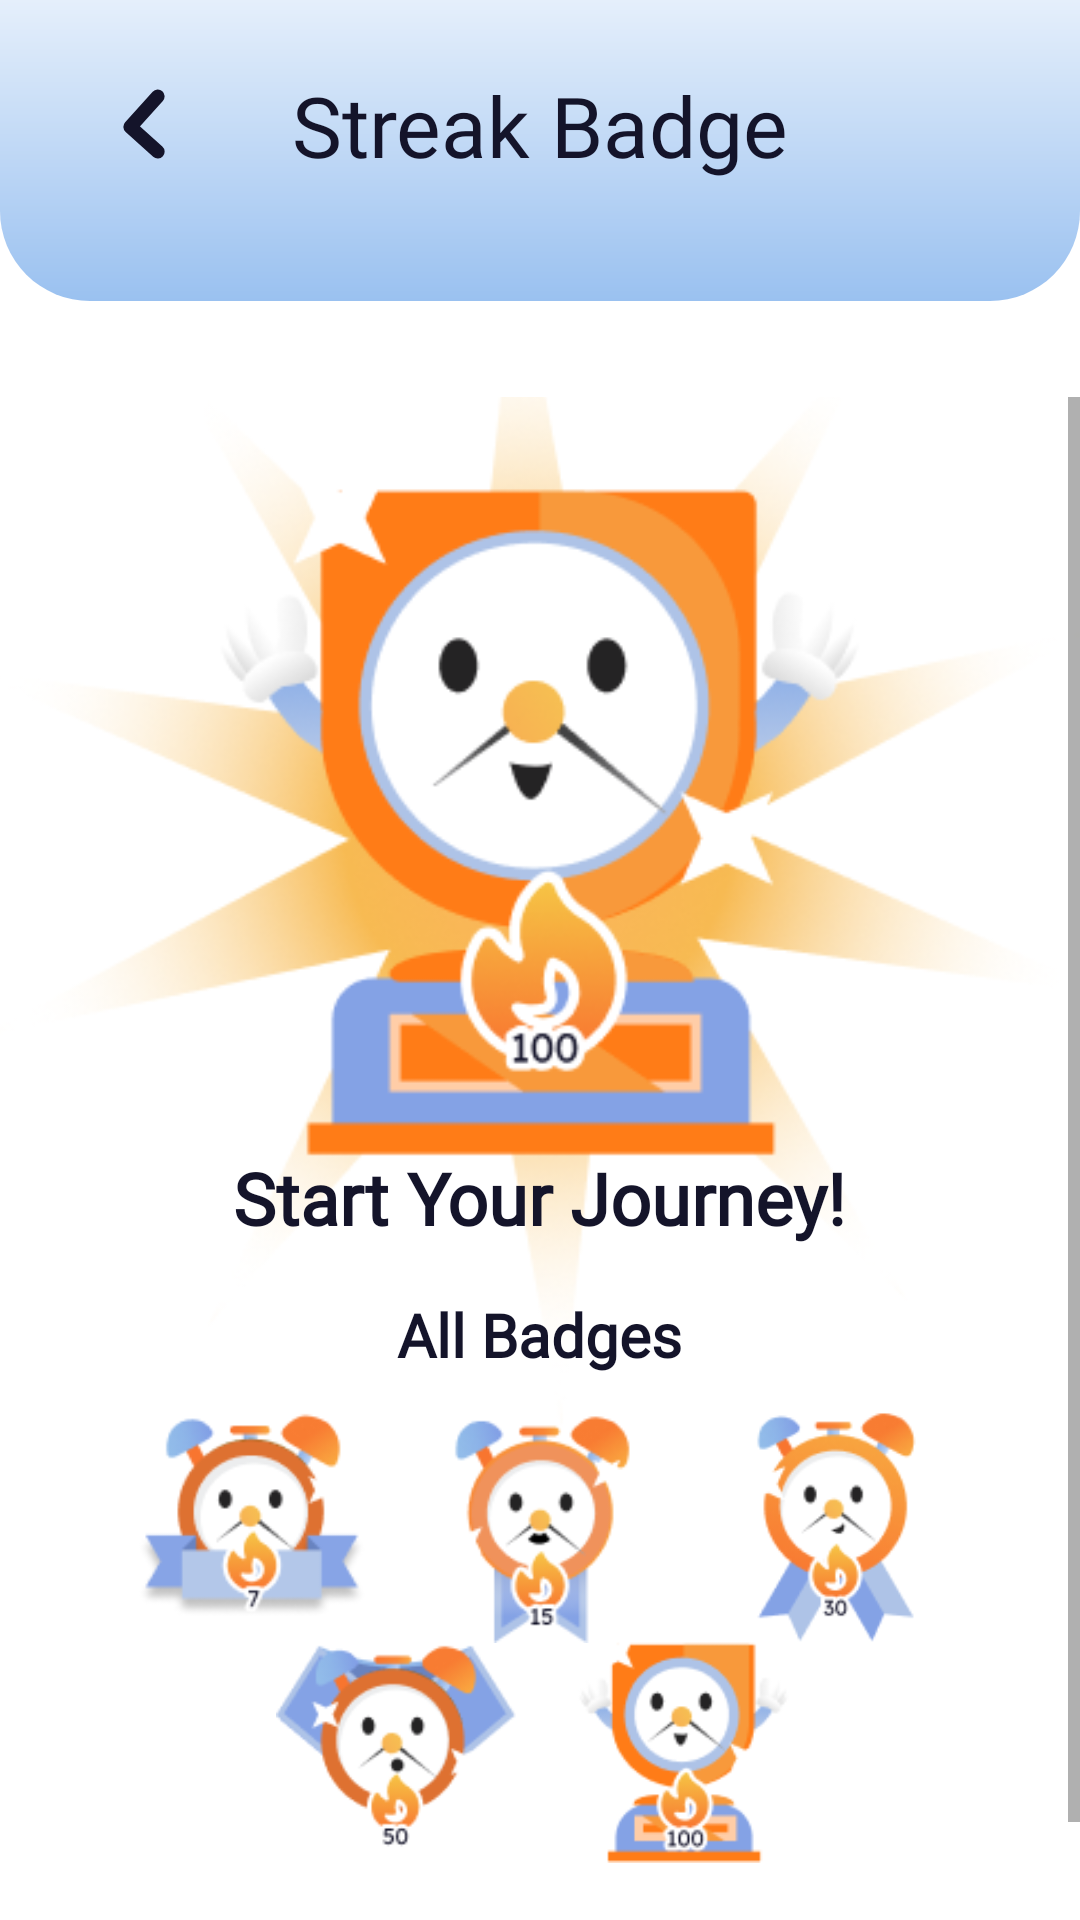

Point at icon controls on the screen. Image size 1080px×1920px, points as point (x, y).
Back: point (144, 124)
Badge 100 Days: point (680, 1753)
Badge 15 Days: point (542, 1529)
Badge 30 Days: point (836, 1527)
Badge 50 Days: point (395, 1746)
Badge 7 Days: point (251, 1511)
